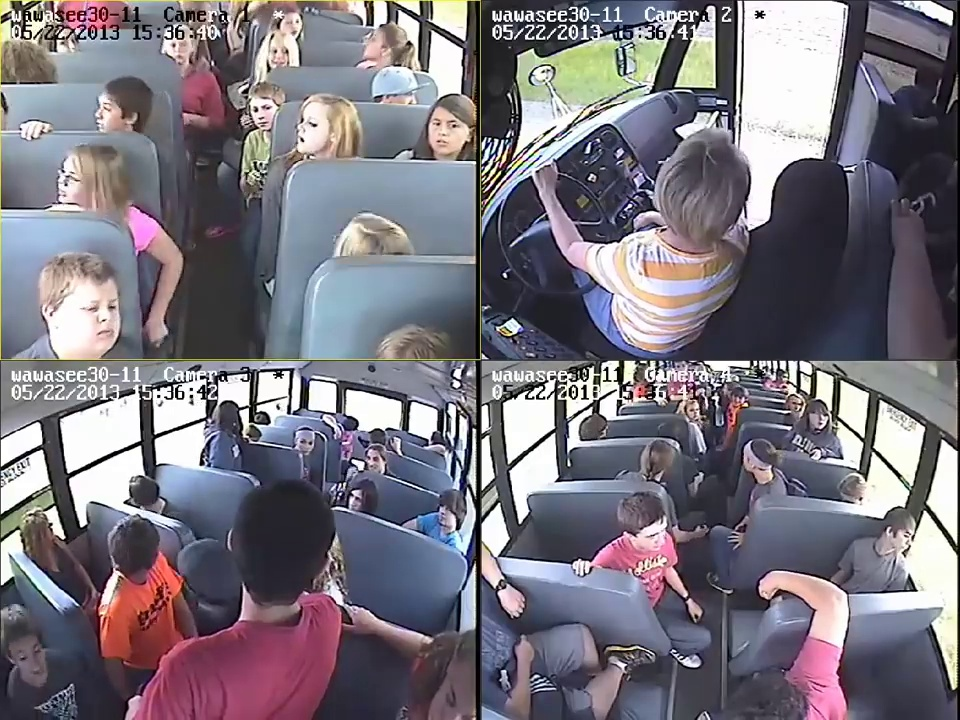face: (64, 286, 120, 352), (87, 87, 128, 136), (55, 160, 89, 207), (296, 110, 330, 154), (427, 114, 461, 150), (633, 517, 667, 550), (363, 32, 394, 64), (250, 98, 275, 131), (268, 38, 293, 67), (894, 522, 914, 553), (436, 501, 461, 525), (168, 38, 189, 65), (280, 11, 297, 37), (364, 446, 382, 470), (347, 491, 367, 511), (809, 411, 830, 429), (296, 433, 314, 454), (730, 389, 746, 407), (687, 402, 699, 425), (790, 398, 803, 412)
